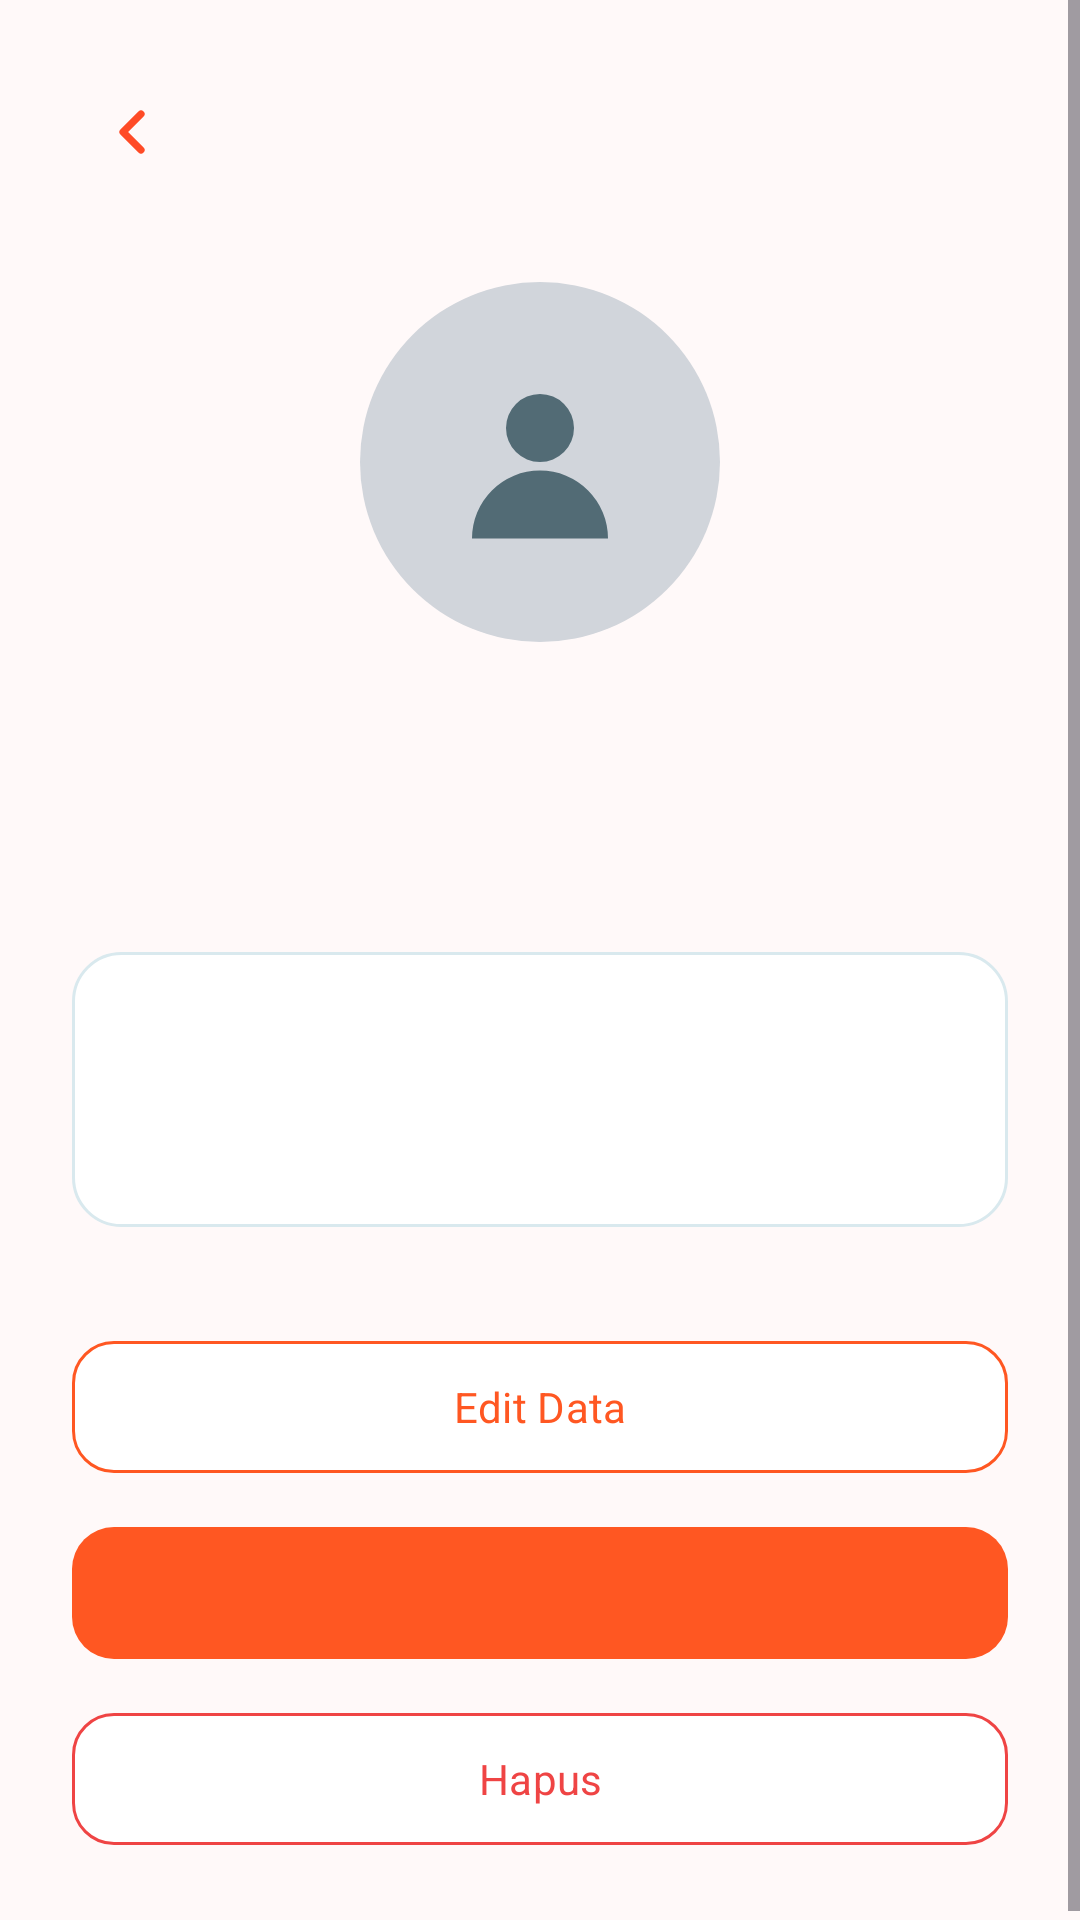

Named icons in this screenshot (1080w x 1920h) and their centers, (x=x, y=y):
Avatar: (x=540, y=462)
Kembali: (x=132, y=132)
